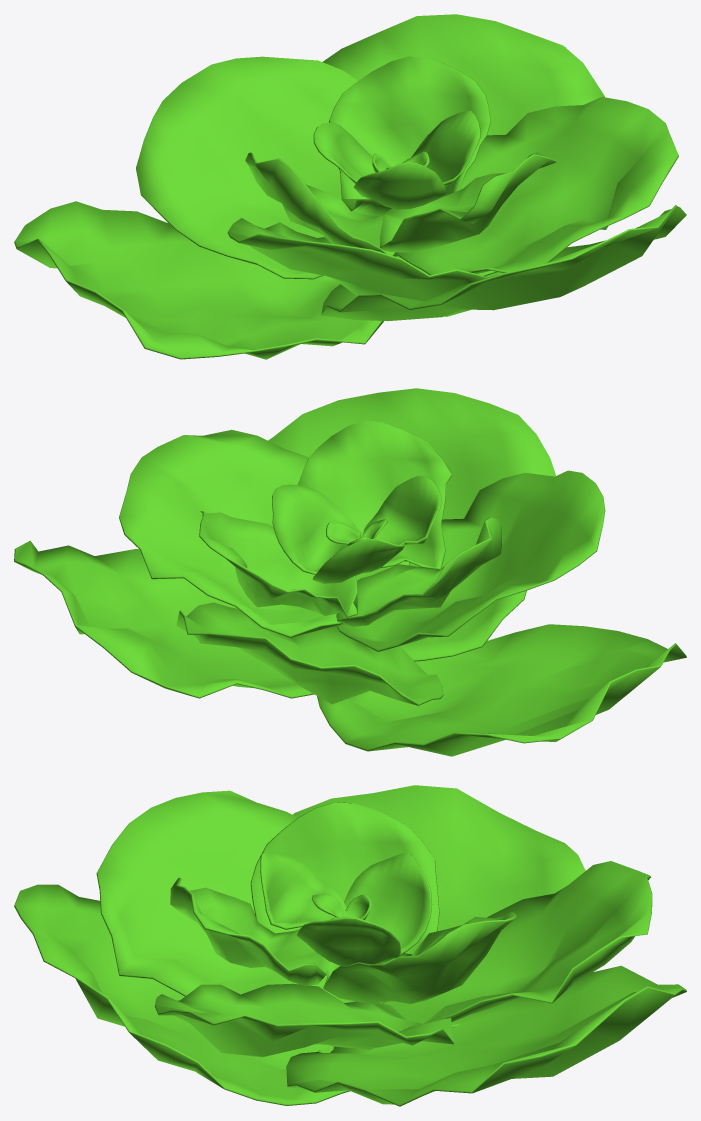
File: lettuce.fbx
3 renders of one model, top to bottom at view 1: azimuth 30°, elevation 25°; view 2: azimuth 150°, elevation 25°; view 3: azimuth 270°, elevation 25°, orthographic. The views are drawn at different scales.
Parts seen in each view (by area): view 1: Plane.013; view 2: Plane.013; view 3: Plane.013.
Part boxes in pixels (box(x1,y1,x2,y2)): Plane.013: box(14, 14, 686, 359); Plane.013: box(14, 388, 686, 756); Plane.013: box(14, 785, 686, 1106).
Bounding box in the file's own units: 340 × 108 × 315.
